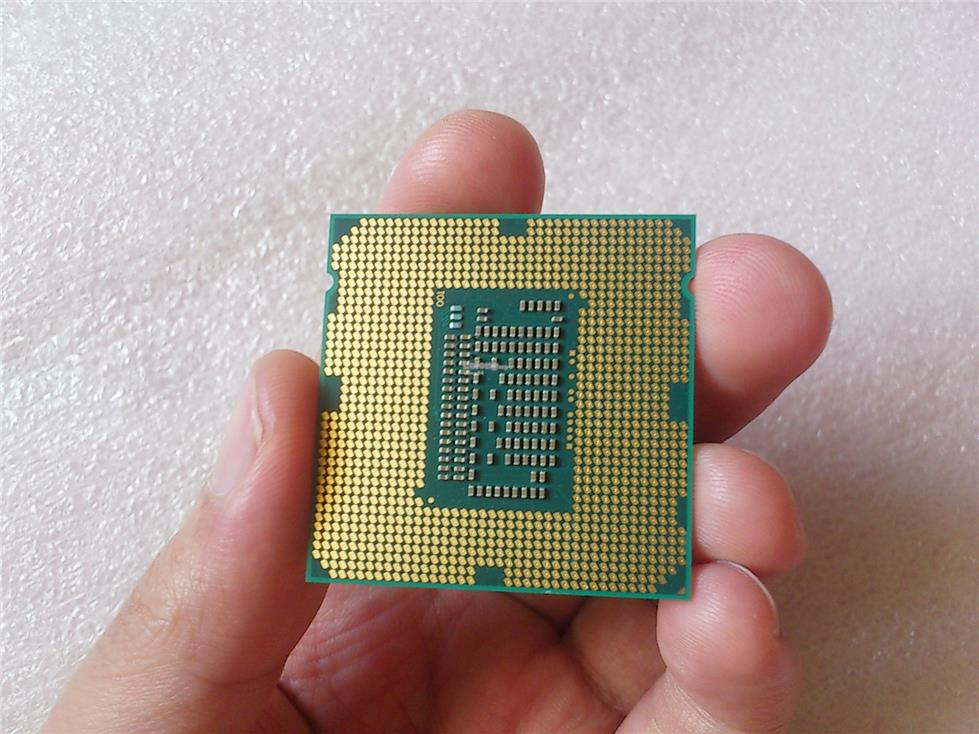processor: (305, 212, 697, 605)
